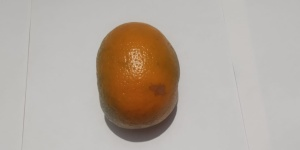BAD: (93, 20, 180, 129)
